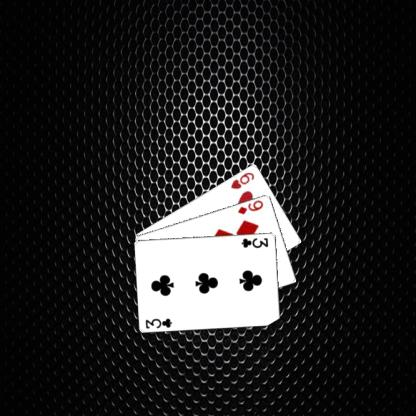3C: (143, 315, 174, 330), (239, 235, 269, 249)
6H: (228, 169, 255, 190)
9D: (236, 198, 264, 216)
